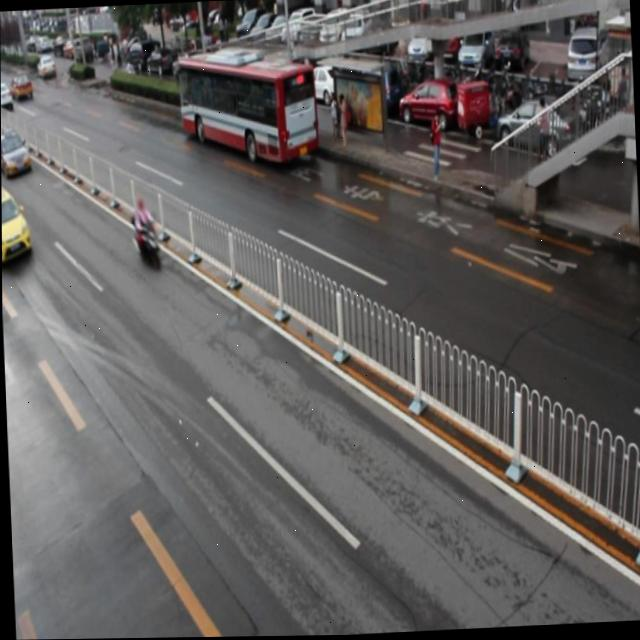car: (1, 188, 32, 262)
van: (177, 48, 316, 169)
